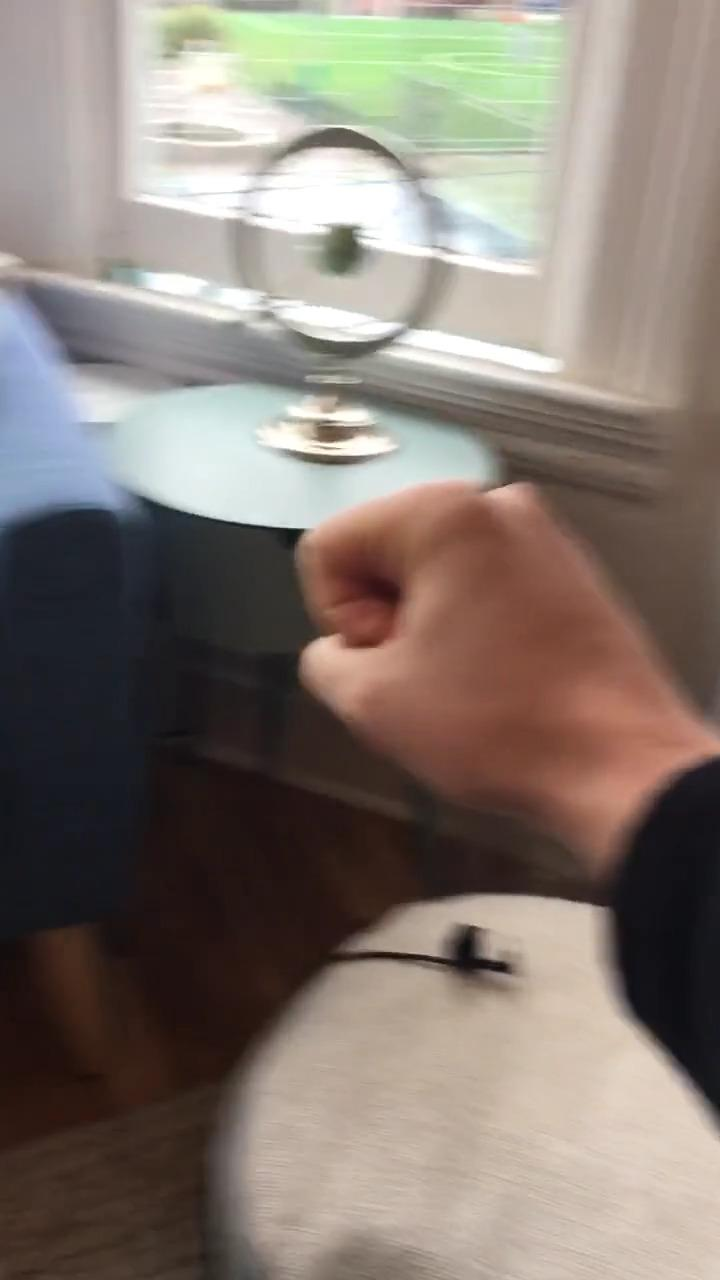Rock: (286, 474, 678, 838)
